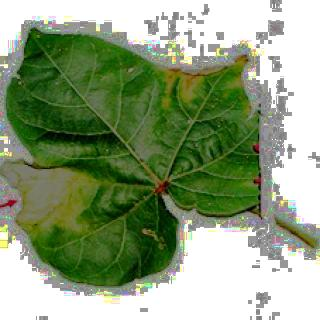wilt: (2, 151, 110, 237), (154, 47, 258, 119)
